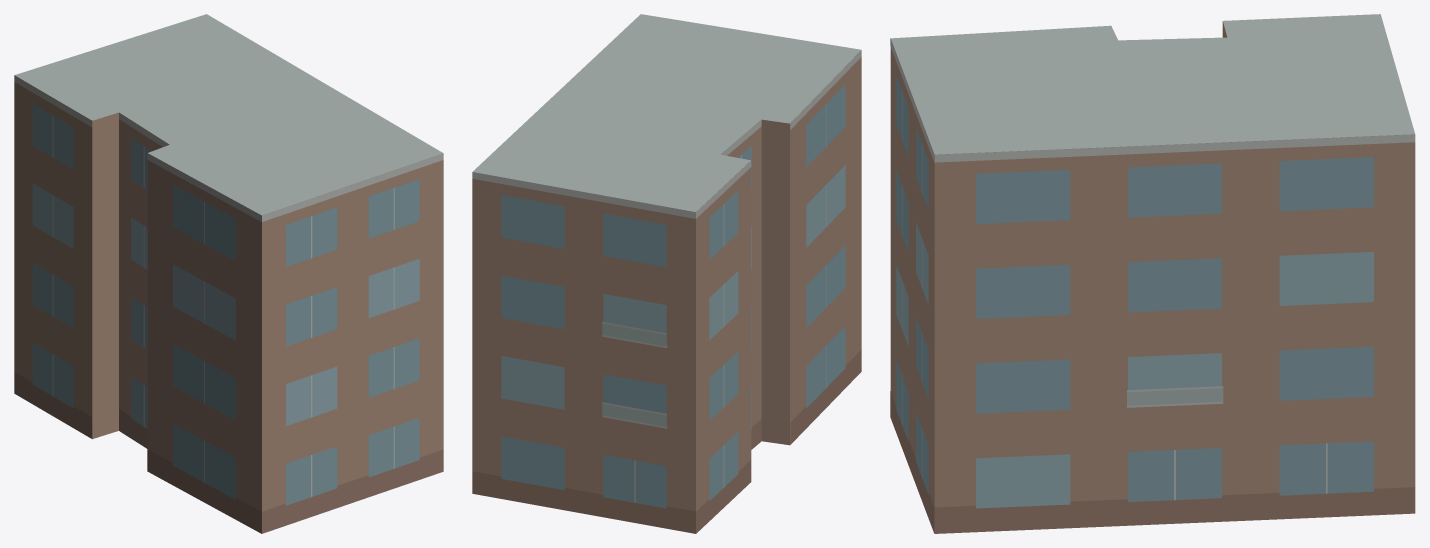
Rendered from survey-upis-32645979.glb.
3 views of the same model, side by side, from view 1: azimuth 30°, elevation 25°; view 2: azimuth 150°, elevation 25°; view 3: azimuth 270°, elevation 25° (orthographic). The views are drawn at different scales.
Visible parts, largest first — view 1: survey-upis-32645979.tmp; view 2: survey-upis-32645979.tmp; view 3: survey-upis-32645979.tmp.
Boxes of the visible parts, x1=… form: survey-upis-32645979.tmp: x1=14, y1=14, x2=443, y2=533; survey-upis-32645979.tmp: x1=472, y1=14, x2=861, y2=533; survey-upis-32645979.tmp: x1=890, y1=14, x2=1415, y2=533.
Bounding box in the file's own units: 9.23 × 11.6 × 14.56.
